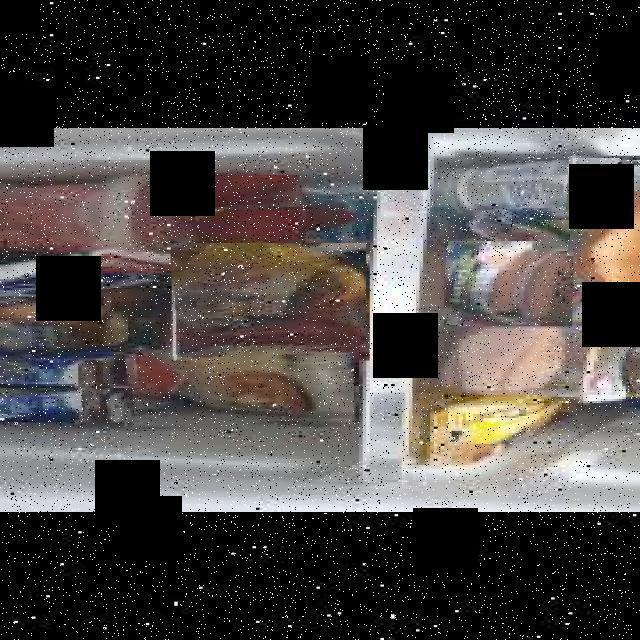carrot: (565, 156, 640, 288)
cheese: (457, 158, 620, 217)
egg: (0, 301, 107, 322), (64, 289, 156, 310)
grated_cheese: (119, 350, 354, 427)
sausage: (444, 241, 569, 326)
tomato: (153, 175, 299, 207), (192, 209, 302, 243)
tortillas: (167, 243, 366, 361)
yogurt: (0, 388, 124, 422)
